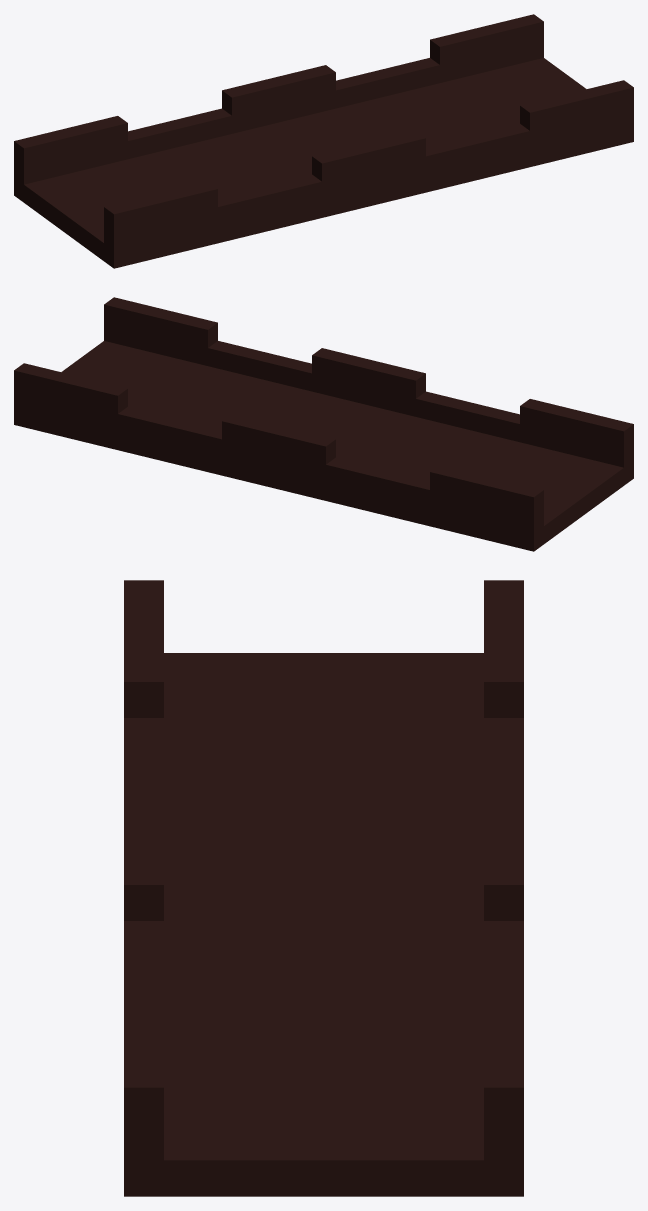
The model's file is Bridge.glb.
3 renders of one model, top to bottom at view 1: azimuth 30°, elevation 25°; view 2: azimuth 150°, elevation 25°; view 3: azimuth 270°, elevation 25°, orthographic. The views are drawn at different scales.
Parts seen in each view (by area): view 1: 3Bridge; view 2: 3Bridge; view 3: 3Bridge.
Boxes of the visible parts, box(x1,y1,x2,y2) form: 3Bridge: box(14, 14, 633, 268); 3Bridge: box(14, 297, 633, 551); 3Bridge: box(124, 580, 523, 1196).
Bounding box in the file's own units: 3 × 0.3 × 1.
